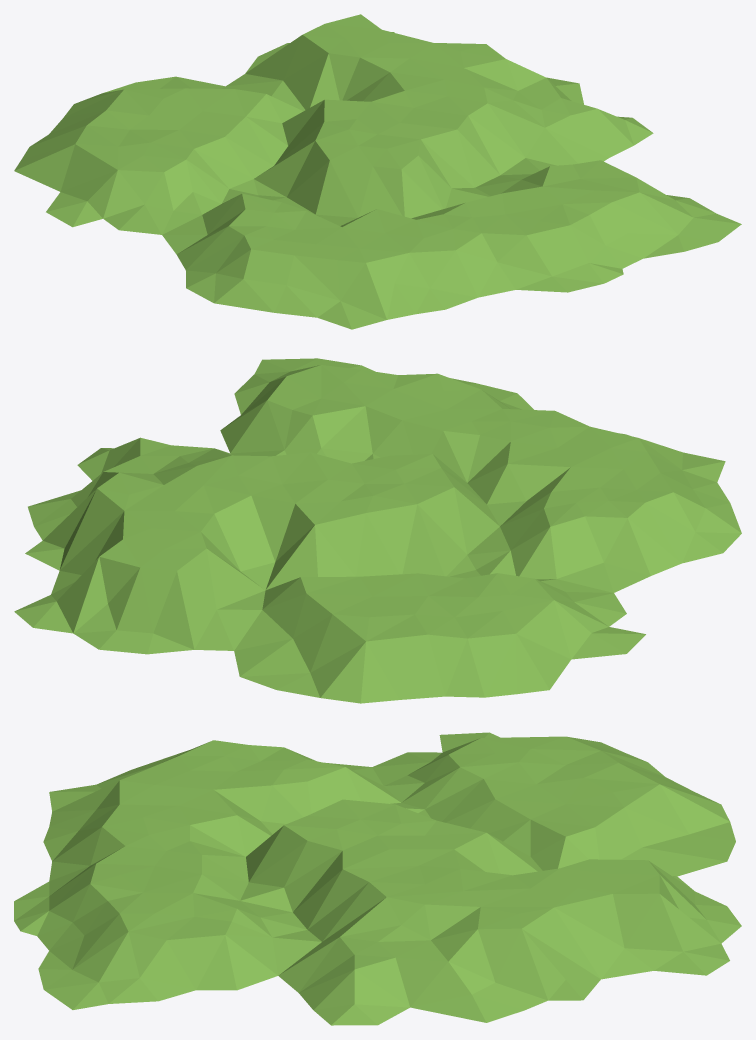
File: MT_Mountain_M_b_07_LOD.fbx
3 renders of one model, top to bottom at view 1: azimuth 30°, elevation 25°; view 2: azimuth 150°, elevation 25°; view 3: azimuth 270°, elevation 25°, orthographic. The views are drawn at different scales.
Parts seen in each view (by area): view 1: MT_Mountain_M_b_07_LOD0; view 2: MT_Mountain_M_b_07_LOD0; view 3: MT_Mountain_M_b_07_LOD0.
Boxes of the visible parts, left/top/right/bottom form: MT_Mountain_M_b_07_LOD0: left=14, top=14, right=741, bottom=329; MT_Mountain_M_b_07_LOD0: left=14, top=358, right=741, bottom=703; MT_Mountain_M_b_07_LOD0: left=14, top=732, right=741, bottom=1025.
Size of what is drawn, in the model's own units: 4609 by 389 by 4844.
